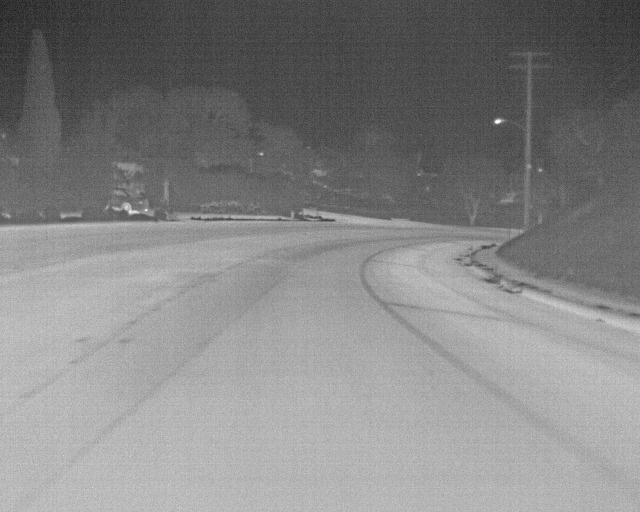car: (112, 186, 150, 215)
